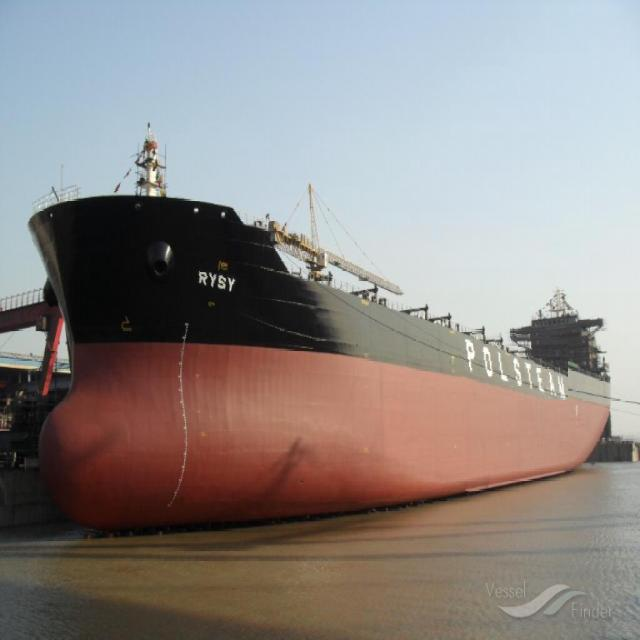OCR: (454, 328, 568, 400), (194, 265, 240, 296)
